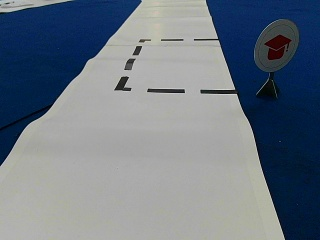school: (254, 19, 298, 70)
